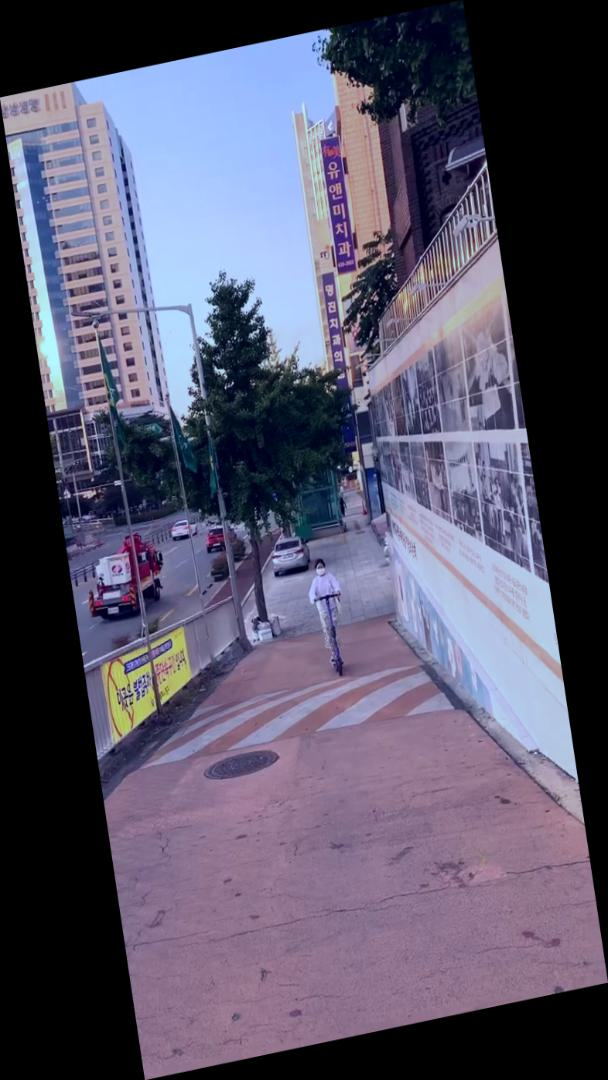nonhelmet: (303, 551, 358, 683)
